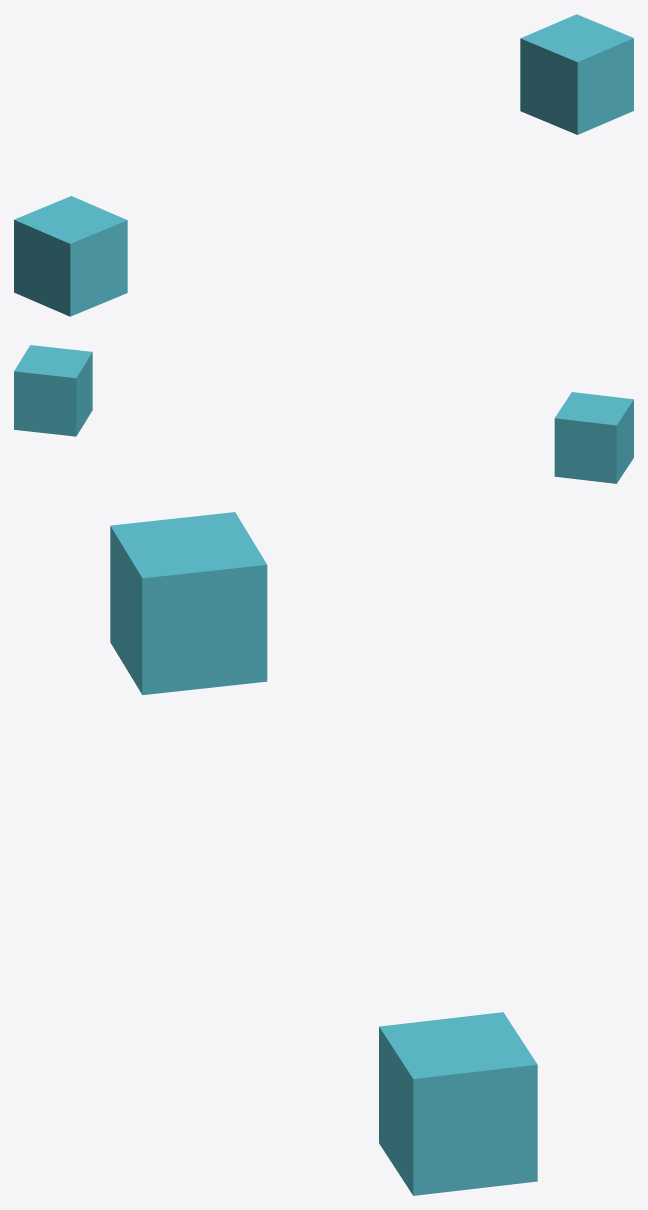
The model's file is 48_chimney.glb.
3 renders of one model, top to bottom at view 1: azimuth 30°, elevation 25°; view 2: azimuth 150°, elevation 25°; view 3: azimuth 270°, elevation 25°, orthographic. The views are drawn at different scales.
Visible parts, largest first — view 1: Box001, Box002; view 2: Box002, Box001; view 3: Box001, Box002.
Part boxes in pixels (<box>): Box001: <box>520,14,633,134</box>; Box002: <box>14,196,127,316</box>; Box002: <box>554,392,633,483</box>; Box001: <box>14,345,92,436</box>; Box001: <box>379,1012,537,1195</box>; Box002: <box>110,512,267,695</box>.
Bounding box in the file's own units: 8.06 × 1.1 × 2.75.
